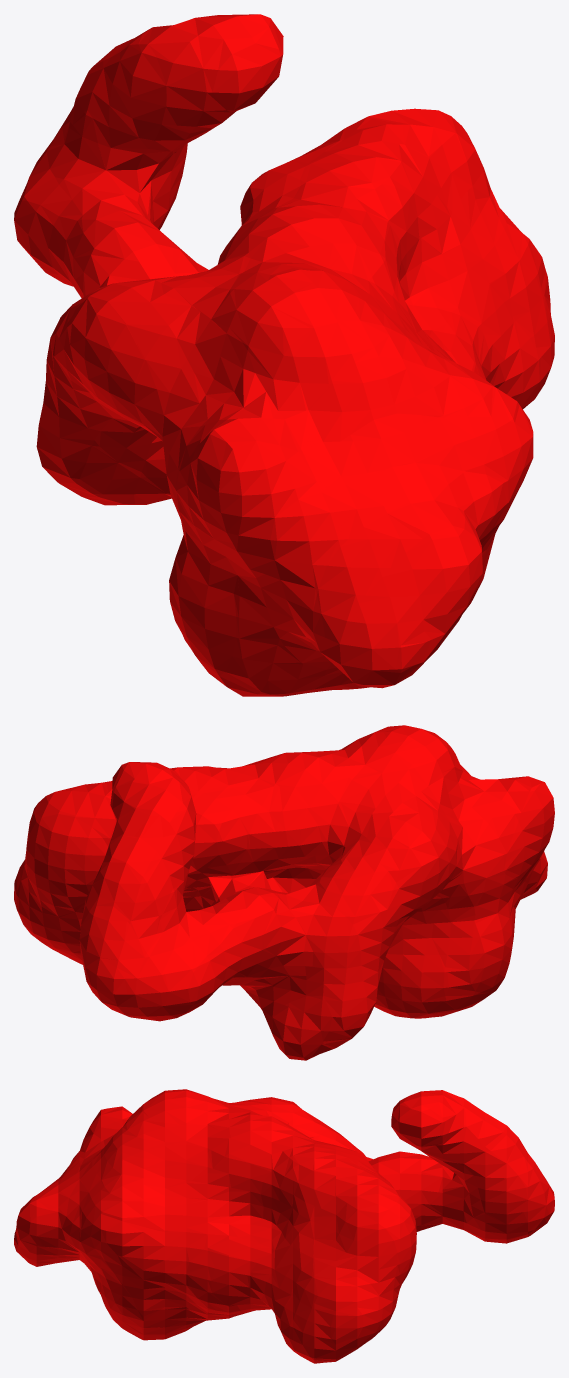
Rendered from iscR_coarse.dae.
The picture shows the model from 3 angles, top to bottom: view 1: azimuth 30°, elevation 25°; view 2: azimuth 150°, elevation 25°; view 3: azimuth 270°, elevation 25°; orthographic projection. The views are drawn at different scales.
Visible parts, largest first — view 1: iscR; view 2: iscR; view 3: iscR.
Part boxes in pixels (<box>): iscR: <box>14,14,554,696</box>; iscR: <box>14,725,554,1060</box>; iscR: <box>14,1089,554,1363</box>.
Bounding box in the file's own units: 49.69 × 41.38 × 74.82.
